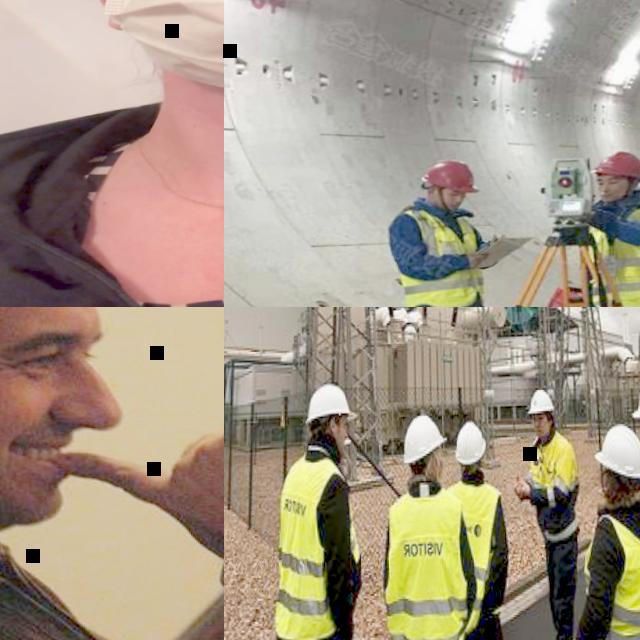Hardhat: (592, 422, 640, 483), (401, 410, 448, 466), (419, 158, 480, 195), (306, 382, 357, 424), (455, 419, 486, 470), (594, 148, 640, 182), (526, 386, 553, 412)
NO-Mask: (0, 416, 72, 532), (598, 187, 623, 202), (437, 197, 463, 211), (332, 432, 348, 453), (536, 422, 554, 439)
NO-Safety Vest: (0, 95, 224, 307), (0, 522, 154, 640)
Person: (0, 307, 224, 640), (0, 0, 224, 307), (264, 380, 368, 640), (377, 409, 481, 640), (510, 382, 587, 640), (375, 158, 494, 307), (568, 420, 640, 640), (442, 414, 512, 640), (575, 146, 640, 307)
Safety Vest: (267, 453, 361, 640), (383, 484, 471, 640), (399, 205, 486, 307), (451, 478, 506, 631), (583, 501, 640, 640), (582, 197, 640, 307), (530, 432, 581, 542)
